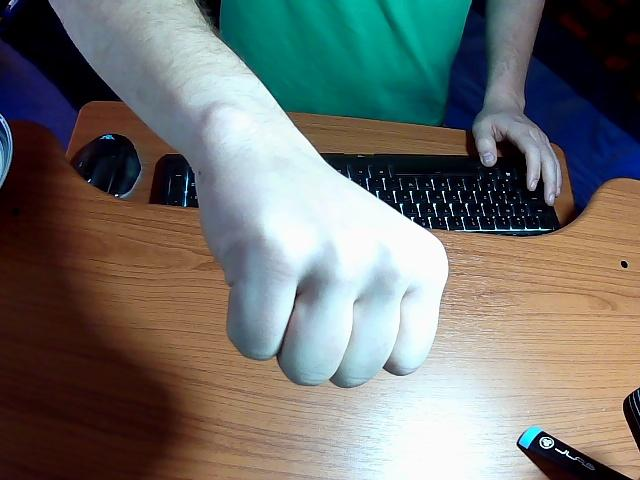rock: (200, 142, 448, 386)
